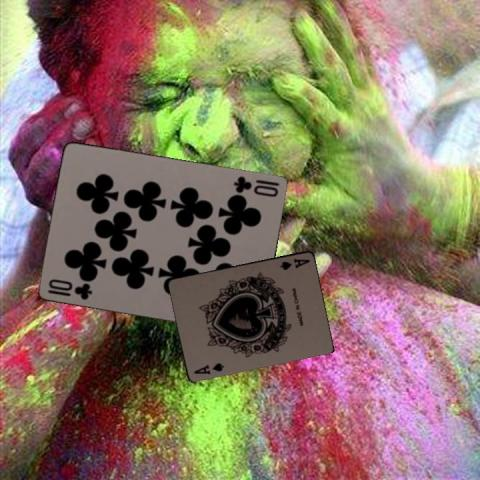10c: (231, 173, 281, 198), (45, 276, 94, 301)
As: (278, 255, 312, 272), (192, 360, 226, 376)
